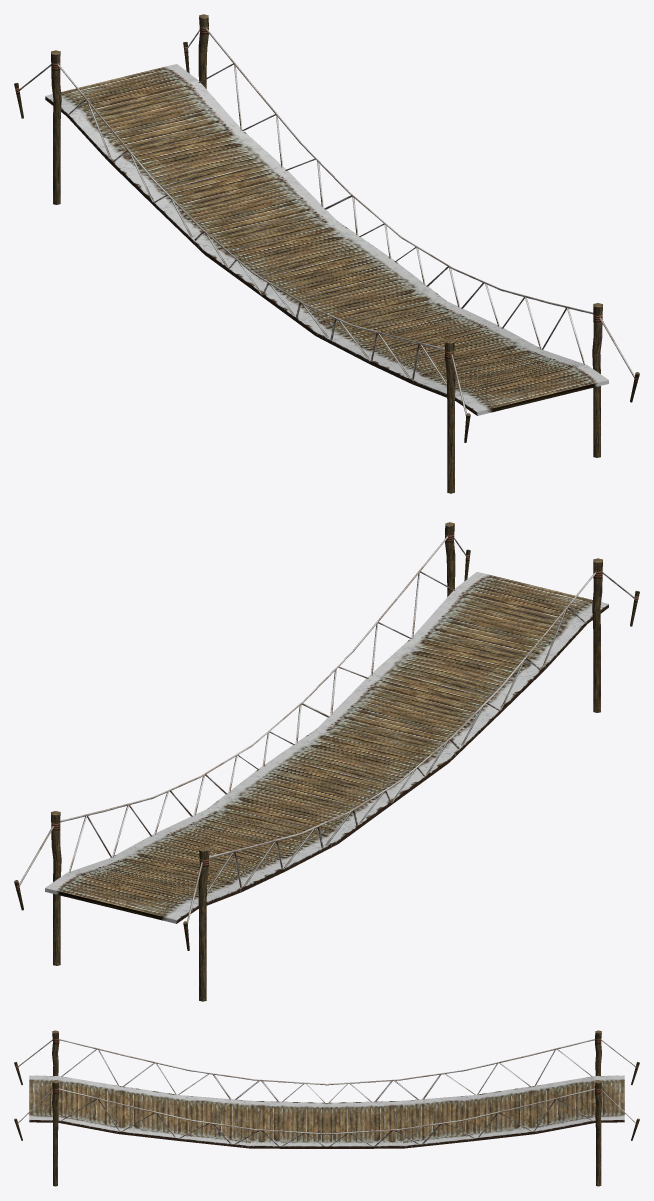
Rendered from general_obj_suspension bridge02.fbx.
3 views of the same model, one above another, from view 1: azimuth 30°, elevation 25°; view 2: azimuth 150°, elevation 25°; view 3: azimuth 270°, elevation 25° (orthographic). The views are drawn at different scales.
Parts seen in each view (by area): view 1: general_obj_suspension bridge01; view 2: general_obj_suspension bridge01; view 3: general_obj_suspension bridge01.
Boxes of the visible parts, bbox=[...] form: general_obj_suspension bridge01: bbox=[14, 14, 639, 493]; general_obj_suspension bridge01: bbox=[14, 522, 639, 1001]; general_obj_suspension bridge01: bbox=[14, 1030, 639, 1186].
Size of the model in its own units: 10.44 by 8.8 by 47.59.
